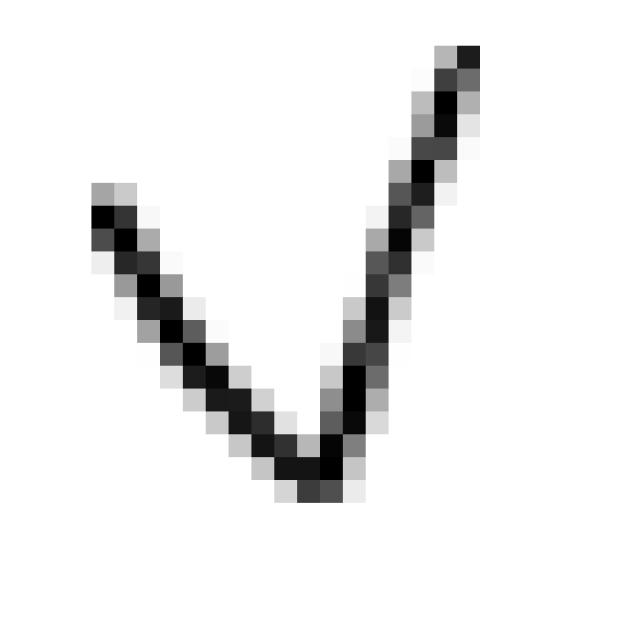7 -seven-: (76, 23, 500, 520)
